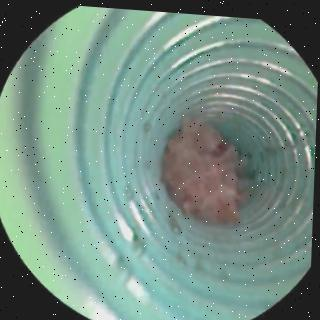stone: (164, 117, 247, 218)
